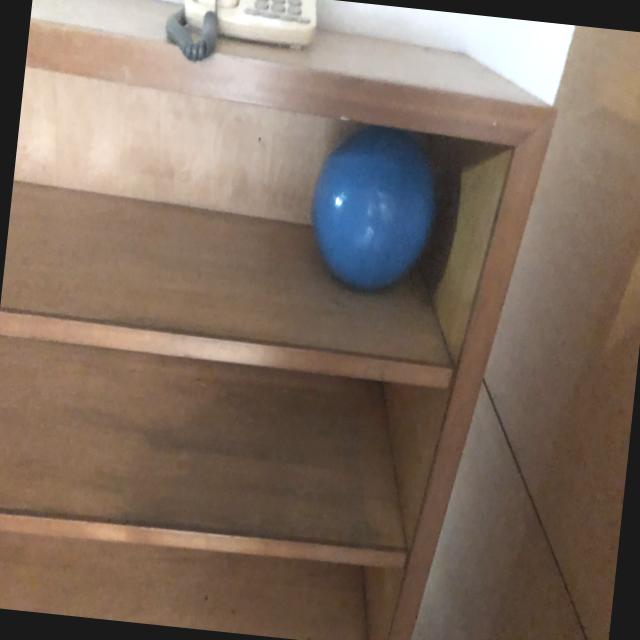blue_ball: (299, 110, 463, 306)
